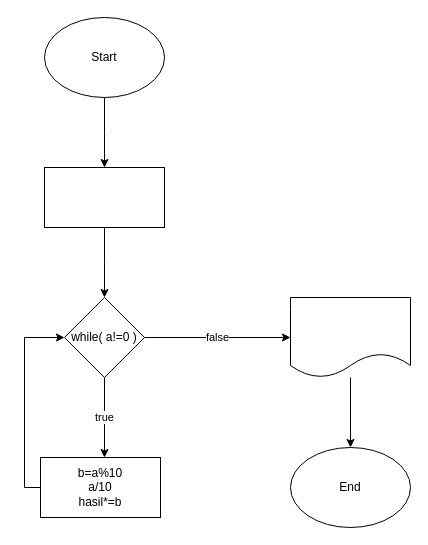
Some shapes in this 428 by 545 pixel diagram are drawn without their labels. The centre of each missing label's shape, as x and y in pixels:
"ededin reqemlerinin hasili" goes at point (350, 337).
"int hasil=1 int a = 576 int b" goes at point (104, 197).
